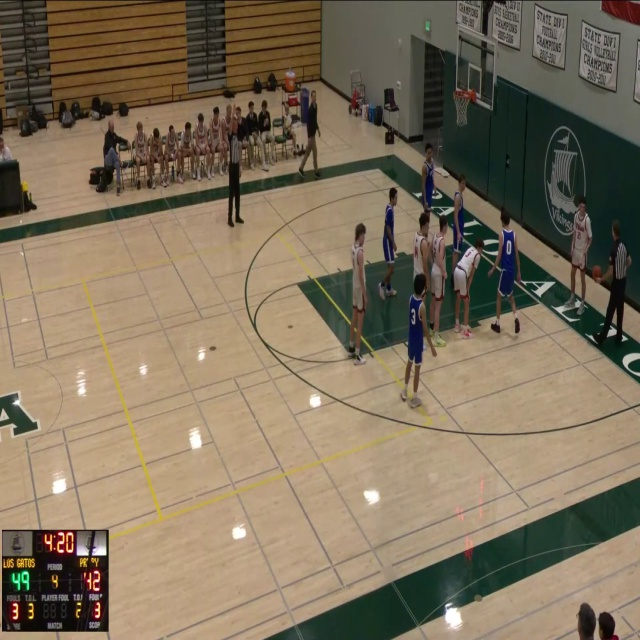Basketball: (592, 265, 601, 279)
